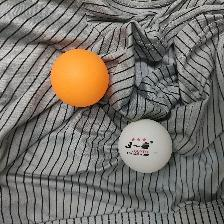WhiteBall: (118, 119, 172, 173)
YellowBall: (50, 48, 108, 107)
